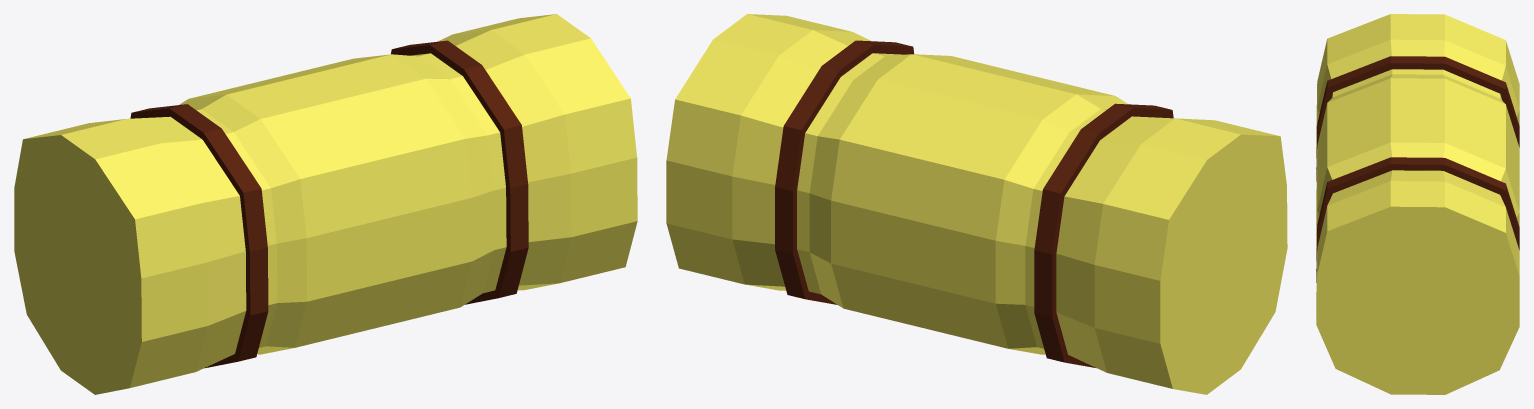
The model's file is PajaAtada 1.fbx.
3 views of the same model, side by side, from view 1: azimuth 30°, elevation 25°; view 2: azimuth 150°, elevation 25°; view 3: azimuth 270°, elevation 25° (orthographic). The views are drawn at different scales.
Visible parts, largest first — view 1: Cylinder.001, Cylinder.002, Cylinder; view 2: Cylinder.001, Cylinder, Cylinder.002; view 3: Cylinder.001, Cylinder.002, Cylinder.
Boxes of the visible parts, left/top/right/bottom form: Cylinder.001: left=14, top=14, right=637, bottom=394; Cylinder.002: left=391, top=40, right=528, bottom=304; Cylinder: left=130, top=104, right=268, bottom=368; Cylinder.001: left=666, top=14, right=1287, bottom=394; Cylinder: left=1034, top=103, right=1173, bottom=367; Cylinder.002: left=775, top=40, right=914, bottom=304; Cylinder.001: left=1316, top=14, right=1519, bottom=394; Cylinder.002: left=1316, top=157, right=1519, bottom=282; Cylinder: left=1316, top=56, right=1519, bottom=181.
Size of the model in its own units: 129 by 58.54 by 57.28.
